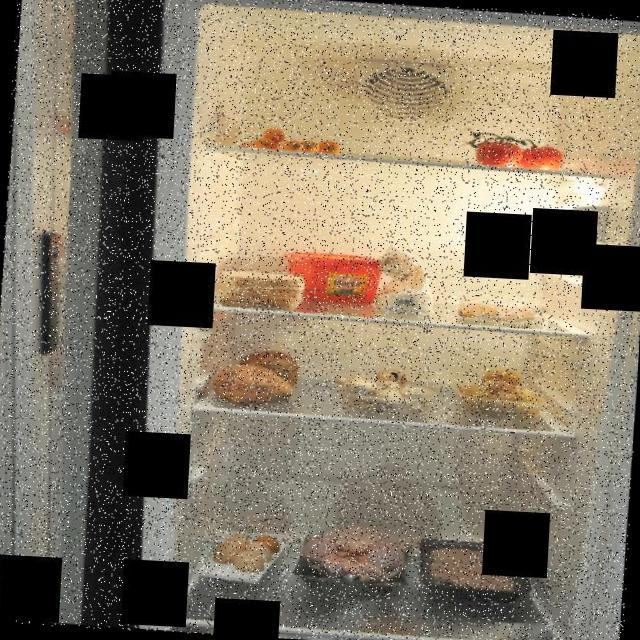Carne pollo: (296, 520, 411, 594), (421, 540, 528, 598)
Champiñones: (330, 363, 438, 420)
Gambas/Langostinos: (452, 296, 554, 324)
Huevos: (212, 524, 284, 576)
Mantequilla: (280, 246, 384, 308)
Patata: (450, 363, 546, 422)
Tomate: (454, 124, 564, 174)
Zanahoria: (240, 122, 344, 158)
bread: (211, 268, 308, 314)
flour: (374, 241, 442, 319)
sweet_potato: (213, 346, 300, 411)
